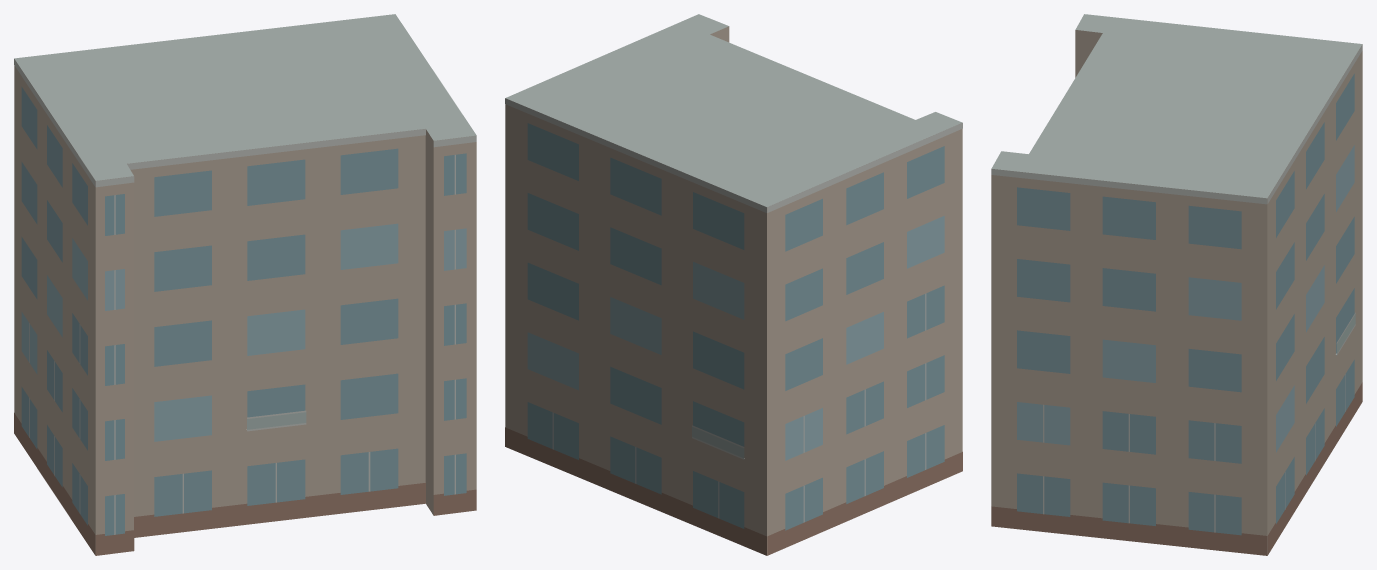
Rendered from survey-upis-32546165.glb.
3 renders of one model, left to right at view 1: azimuth 30°, elevation 25°; view 2: azimuth 150°, elevation 25°; view 3: azimuth 270°, elevation 25°, orthographic. The views are drawn at different scales.
Parts seen in each view (by area): view 1: survey-upis-32546165.tmp; view 2: survey-upis-32546165.tmp; view 3: survey-upis-32546165.tmp.
Part boxes in pixels (x1=…): survey-upis-32546165.tmp: x1=14, y1=14, x2=476, y2=555; survey-upis-32546165.tmp: x1=505, y1=14, x2=962, y2=555; survey-upis-32546165.tmp: x1=991, y1=14, x2=1362, y2=555.
Bounding box in the file's own units: 15.7 × 14.2 × 13.37.
